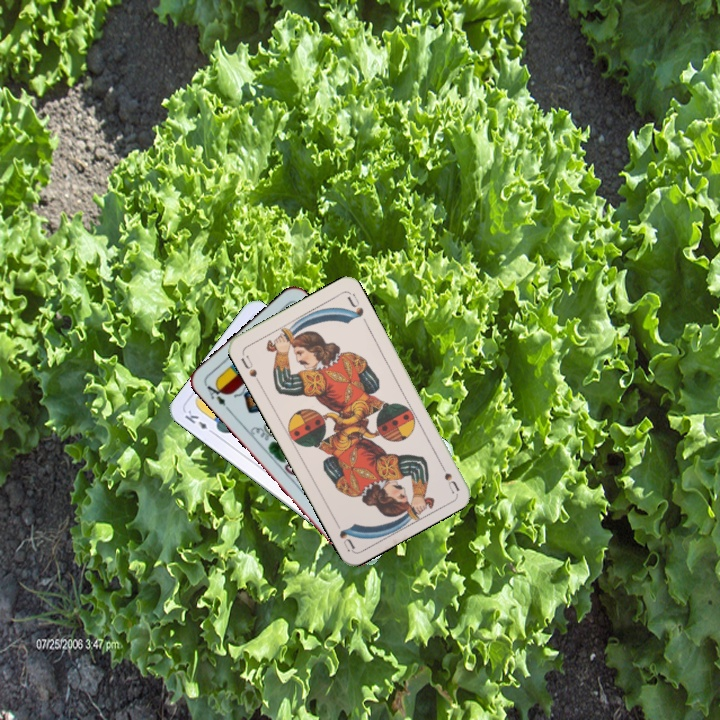EA: (203, 378, 232, 413)
EK: (181, 406, 217, 437)
SU: (434, 456, 461, 495), (236, 351, 263, 386)
